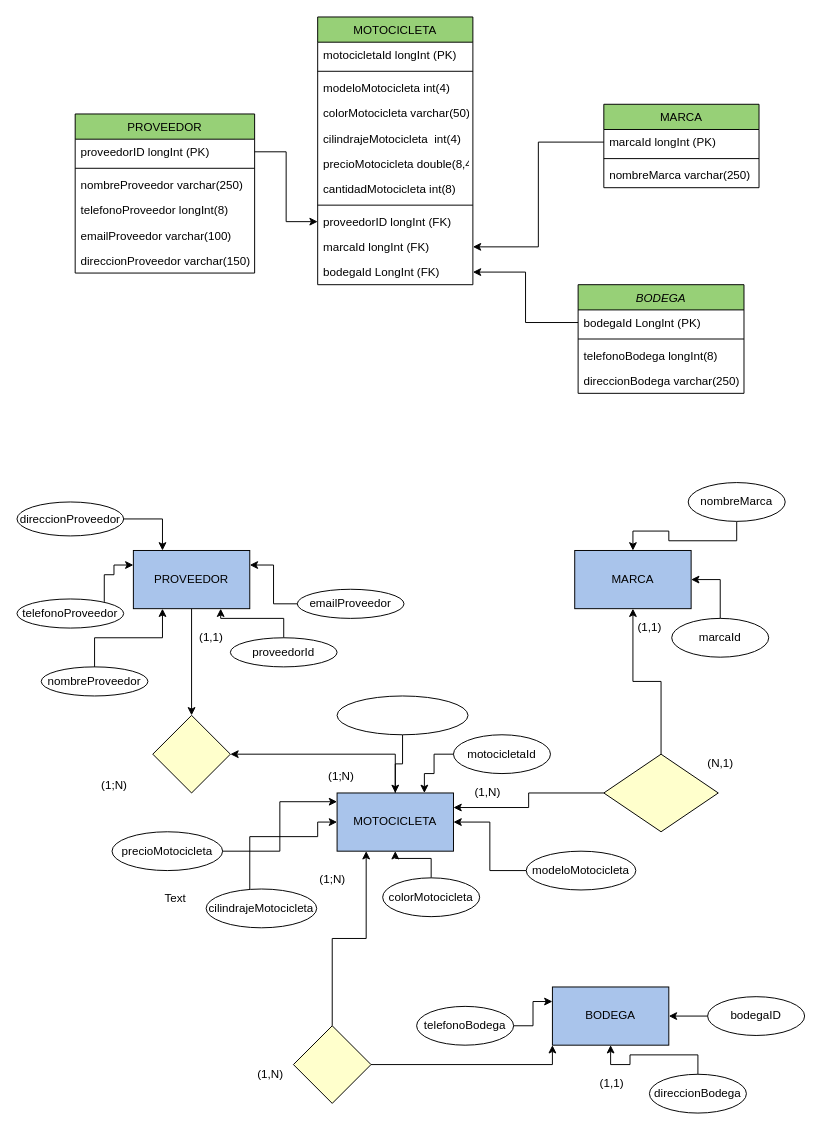
The diagram is 822 pixels wide and 1130 high, and some of its shapes have lost their labels. The shapes that lost their labels are listed below. From the top down, each one's centre as x and y in pixels, then its label:
At (402,715): "cantidadMotocicletas".
At (191,753): "DISTRIBUIR".
At (660,792): "TENER".
At (331,1064): "GUARDAR".
